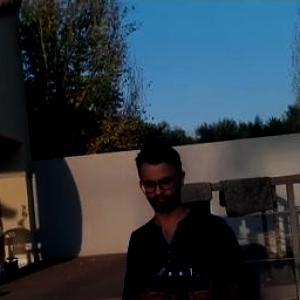follow: (117, 131, 265, 299)
